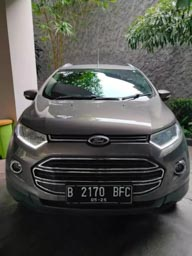plat: (66, 185, 131, 196)
